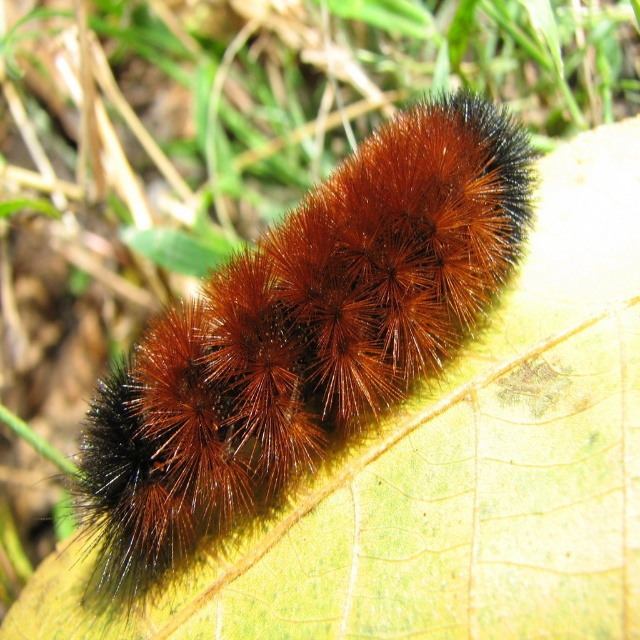Caterpillar: (31, 83, 538, 632)
